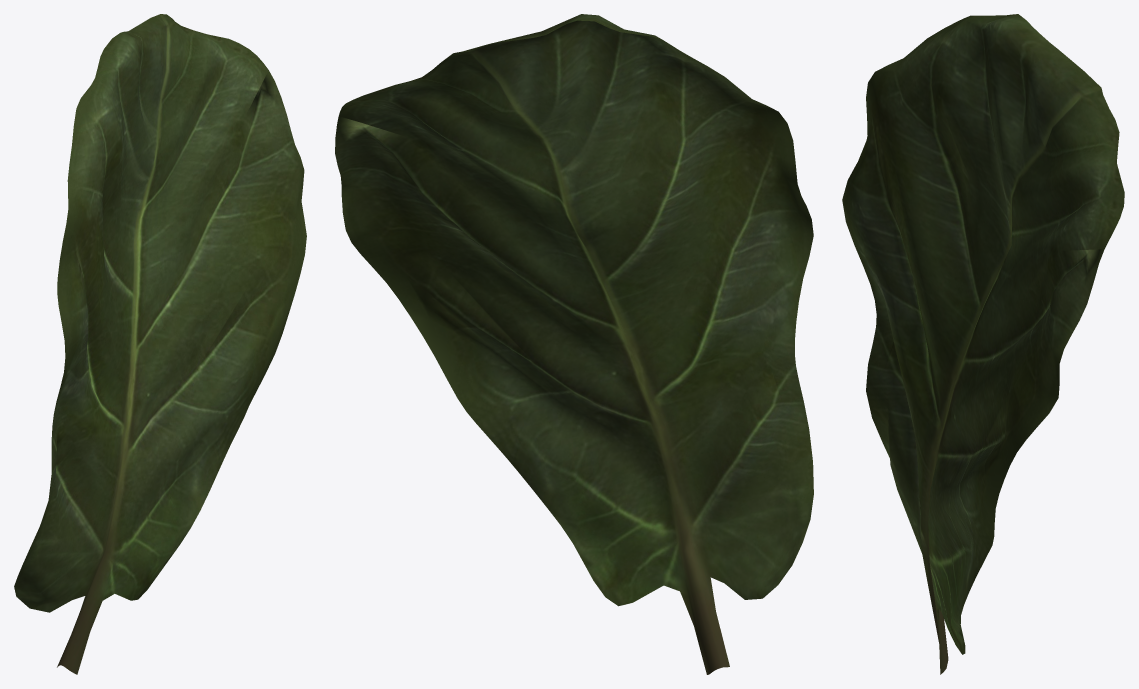
3 renders of one model, left to right at view 1: azimuth 30°, elevation 25°; view 2: azimuth 150°, elevation 25°; view 3: azimuth 270°, elevation 25°, orthographic. The views are drawn at different scales.
Parts seen in each view (by area): view 1: G-Plane209 68% 68% 68% 68%.017; view 2: G-Plane209 68% 68% 68% 68%.017; view 3: G-Plane209 68% 68% 68% 68%.017.
Part boxes in pixels (<box>): G-Plane209 68% 68% 68% 68%.017: <box>14,14,306,674</box>; G-Plane209 68% 68% 68% 68%.017: <box>335,14,813,674</box>; G-Plane209 68% 68% 68% 68%.017: <box>842,14,1124,674</box>.
Size of the model in its own units: 0.8075 by 1.31 by 0.4782.
Materials: 1 (1 with a texture image).
